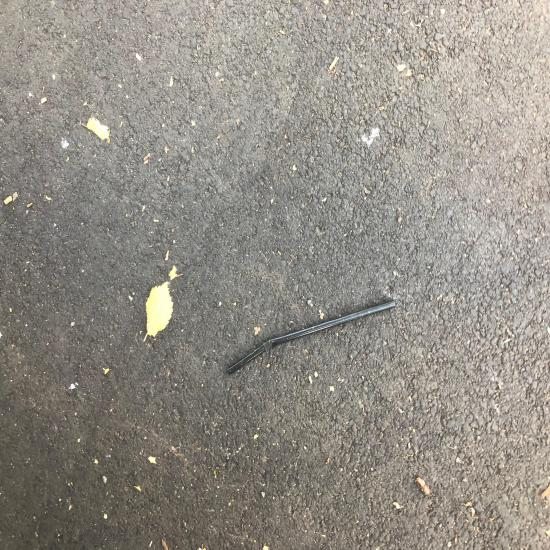Tissues: (140, 389, 193, 447)
